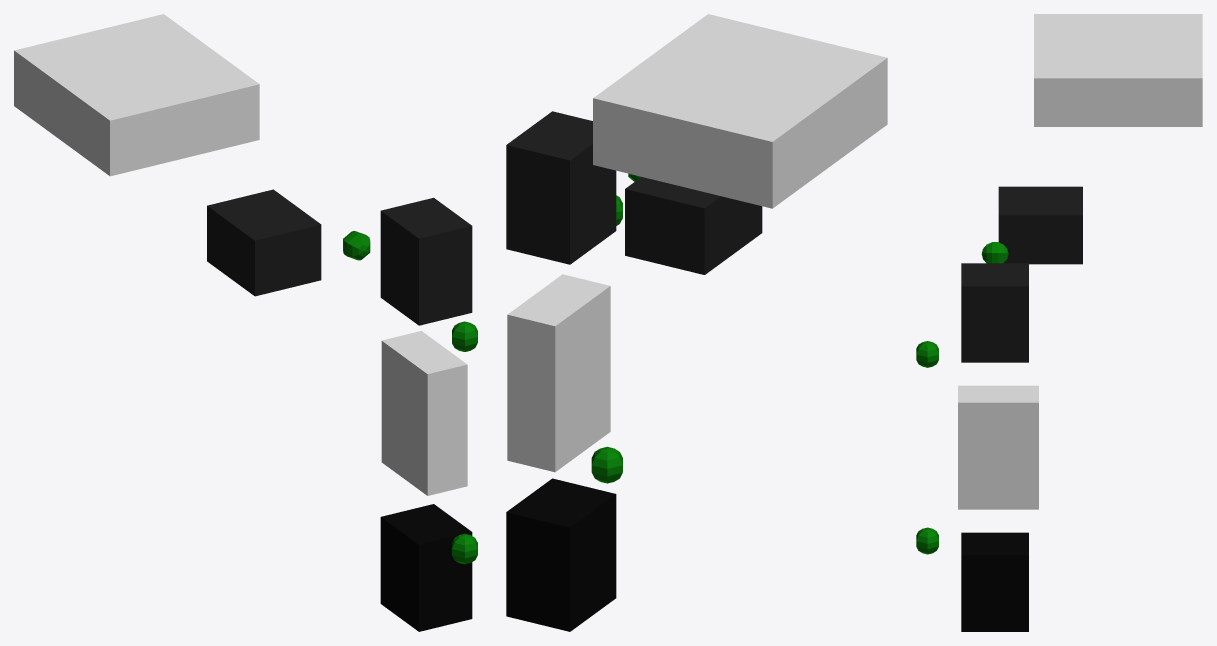
The model's file is front_right_leg.dae.
The picture shows the model from 3 angles, left to right: view 1: azimuth 30°, elevation 25°; view 2: azimuth 150°, elevation 25°; view 3: azimuth 270°, elevation 25°; orthographic projection. The views are drawn at different scales.
Visible parts, largest first — view 1: base_link, calf_link_8, dynamixel_AX12_16_link, dynamixel_AX12_8_link, dynamixel_AX12_4_link, S-B_16_link, S-B_8_link, S-B_4_link; view 2: base_link, calf_link_8, dynamixel_AX12_8_link, dynamixel_AX12_16_link, dynamixel_AX12_4_link, S-B_8_link; view 3: base_link, calf_link_8, dynamixel_AX12_16_link, dynamixel_AX12_8_link, dynamixel_AX12_4_link, S-B_8_link, S-B_16_link, S-B_4_link.
Part boxes in pixels (x1,y1,x2,y2): base_link: (14, 14, 259, 176); calf_link_8: (381, 331, 467, 495); dynamixel_AX12_16_link: (380, 197, 472, 325); dynamixel_AX12_8_link: (380, 504, 472, 631); dynamixel_AX12_4_link: (207, 189, 321, 296); S-B_16_link: (452, 321, 477, 351); S-B_8_link: (452, 533, 477, 564); S-B_4_link: (343, 231, 370, 260); base_link: (593, 14, 887, 208); calf_link_8: (507, 274, 610, 472); dynamixel_AX12_8_link: (506, 478, 616, 631); dynamixel_AX12_16_link: (506, 111, 616, 264); dynamixel_AX12_4_link: (625, 177, 762, 274); S-B_8_link: (591, 446, 622, 483); base_link: (1034, 14, 1202, 126); calf_link_8: (958, 385, 1038, 509); dynamixel_AX12_16_link: (961, 263, 1028, 362); dynamixel_AX12_8_link: (961, 532, 1028, 631); dynamixel_AX12_4_link: (998, 186, 1082, 264); S-B_8_link: (916, 527, 938, 554); S-B_16_link: (916, 341, 938, 367); S-B_4_link: (981, 242, 1008, 263).
Size of the model in its own units: 0.0965 by 0.0849 by 0.157.
